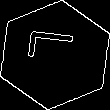L_E: (26, 37, 84, 73)
